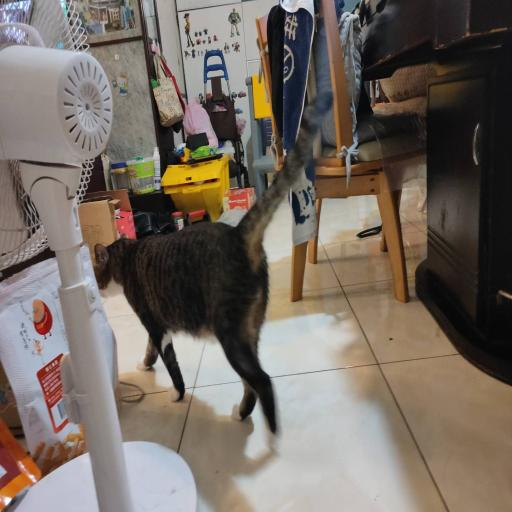cat: (102, 220, 274, 370)
